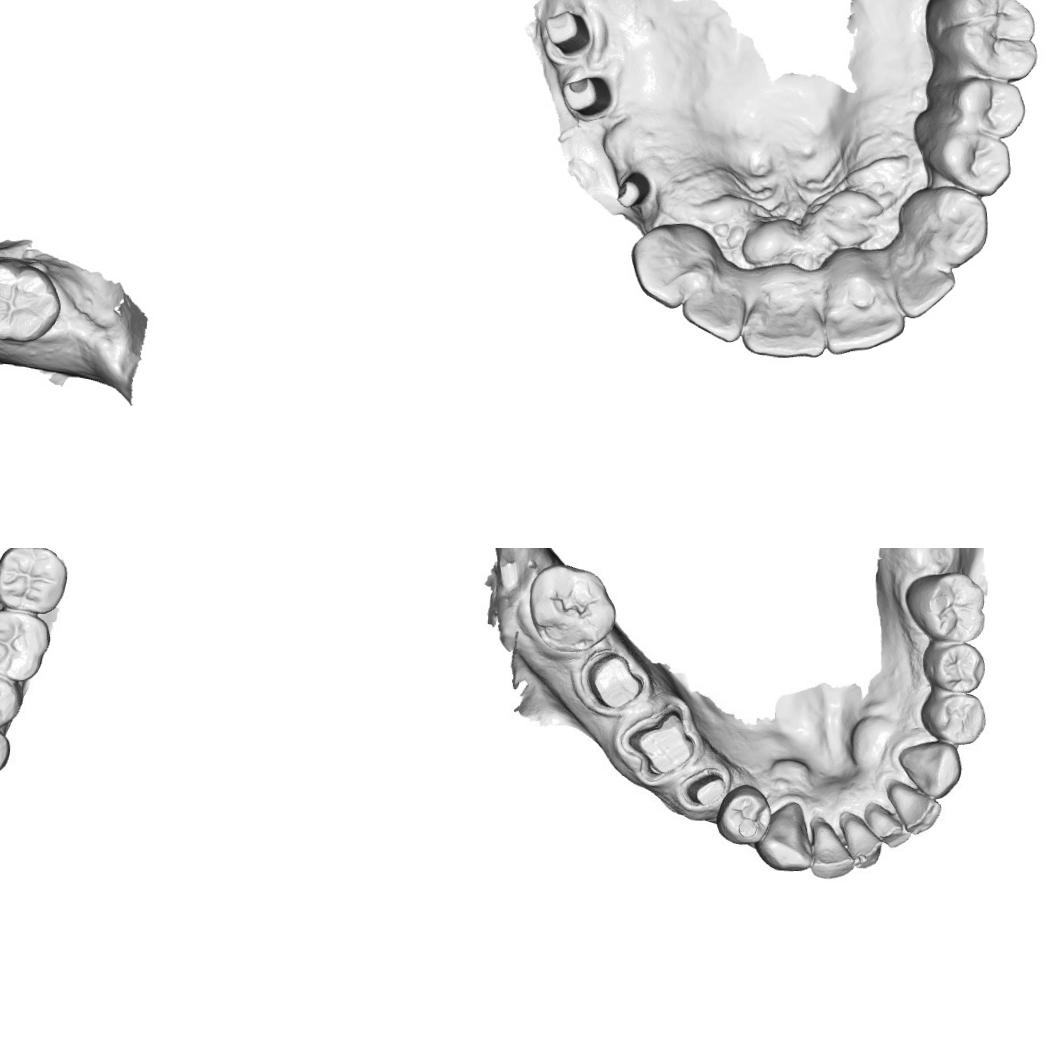abutment: (557, 73, 613, 121), (542, 7, 592, 56), (611, 168, 653, 212)
canine: (914, 182, 992, 270), (626, 225, 701, 310), (754, 798, 816, 874), (894, 739, 962, 795)
crown: (632, 711, 696, 777), (586, 647, 645, 710), (682, 767, 726, 807)
incisor: (819, 292, 914, 360), (740, 297, 830, 363), (898, 251, 959, 322), (677, 287, 749, 344), (888, 781, 944, 838), (838, 811, 891, 871), (863, 802, 912, 856), (812, 816, 850, 876)
molar: (526, 562, 622, 655), (935, 0, 1039, 81), (903, 569, 985, 643), (0, 255, 64, 346), (0, 548, 70, 611), (0, 607, 48, 680)
premolar: (938, 128, 1014, 198), (951, 72, 1030, 137), (916, 694, 992, 744), (922, 640, 988, 693), (716, 782, 771, 844), (0, 675, 20, 726), (0, 721, 14, 777)
